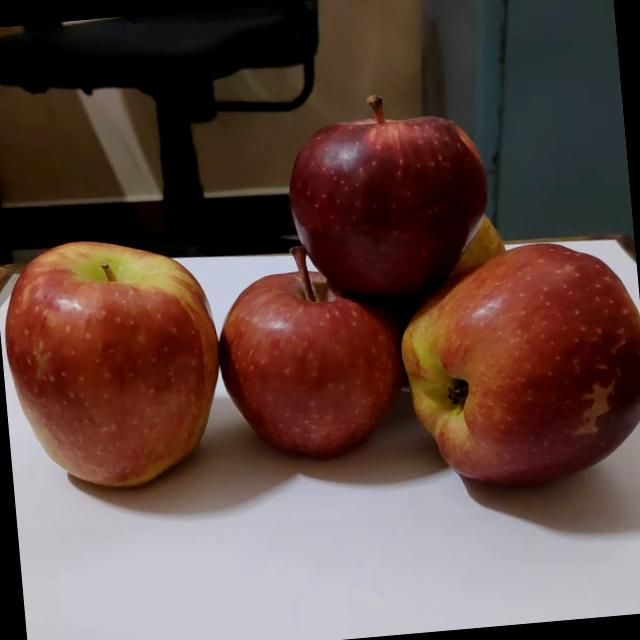apple: (374, 226, 640, 499), (0, 223, 221, 492), (269, 80, 496, 312), (198, 230, 406, 469), (403, 192, 507, 276)
